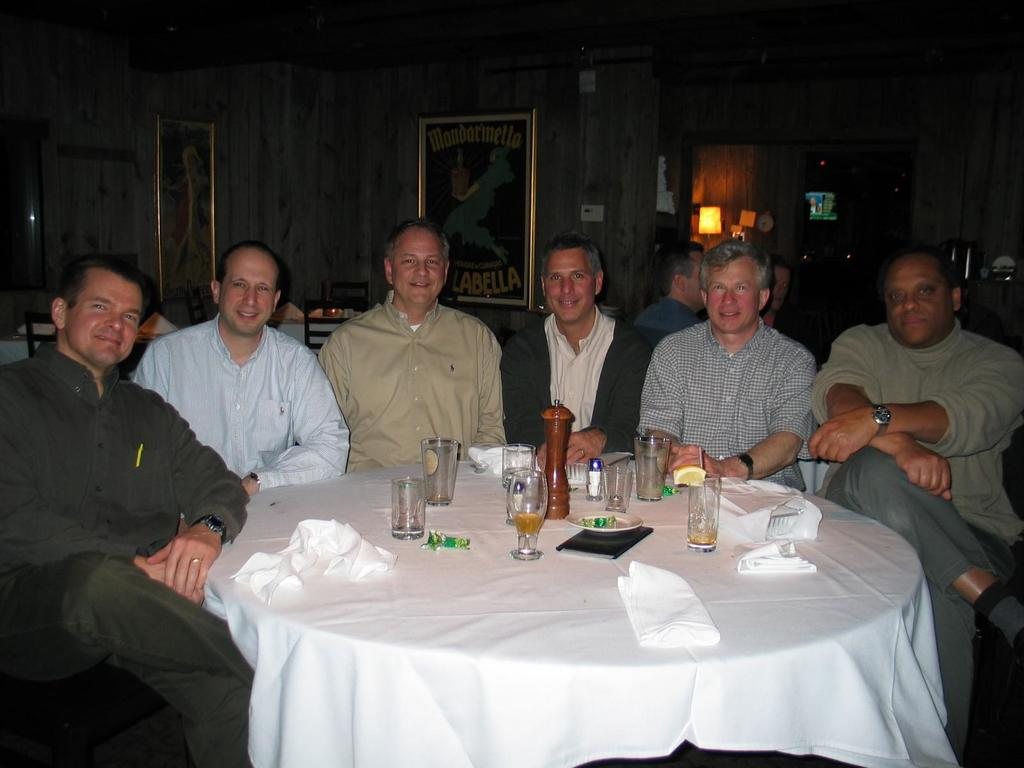Beer: (513, 506, 542, 538), (689, 534, 713, 549)
